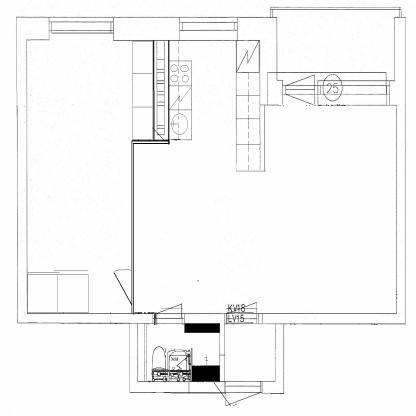bathroom: (133, 317, 222, 392)
door: (280, 71, 317, 112), (223, 374, 266, 408), (112, 265, 140, 308), (226, 298, 262, 328), (154, 300, 188, 327)
perimeter: (18, 20, 401, 318)
window: (318, 70, 394, 110), (46, 12, 118, 45), (177, 13, 240, 43)
